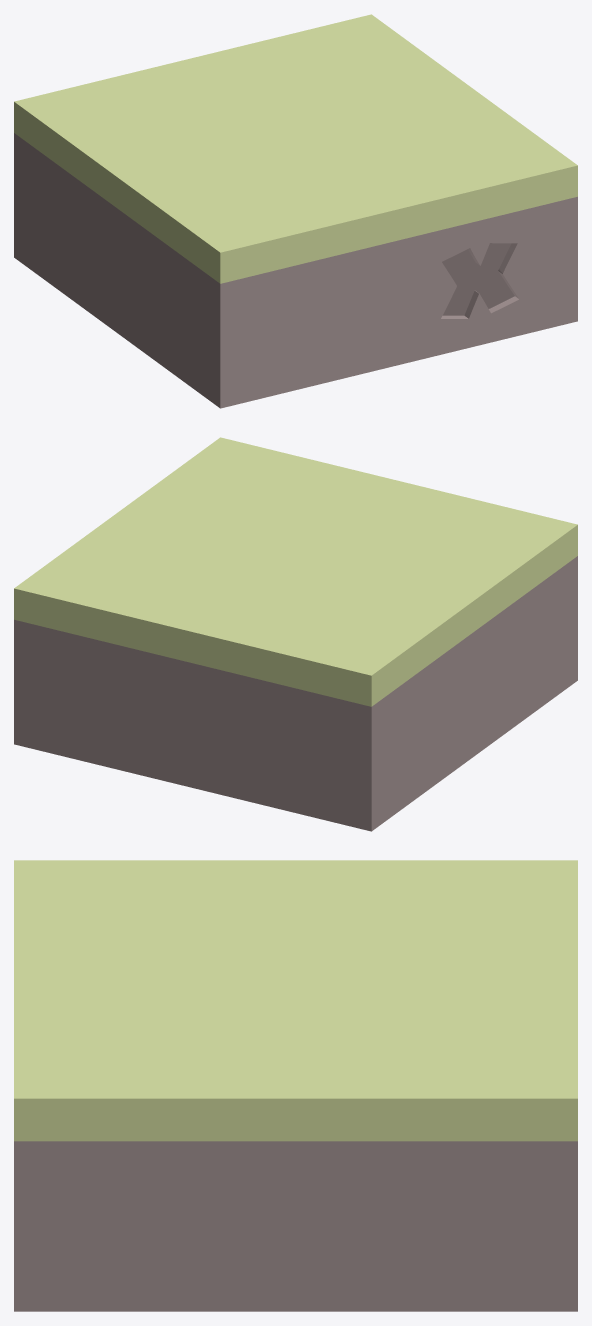
The model's file is nebx-cube.glb.
3 renders of one model, top to bottom at view 1: azimuth 30°, elevation 25°; view 2: azimuth 150°, elevation 25°; view 3: azimuth 270°, elevation 25°, orthographic. The views are drawn at different scales.
Parts seen in each view (by area): view 1: Cube1, Boolean, Shape_1; view 2: Cube1, Boolean; view 3: Cube1, Boolean.
Boxes of the visible parts, x1,y1,x2,y2 form: Cube1: [14, 14, 577, 283]; Boolean: [14, 133, 577, 408]; Shape_1: [442, 243, 514, 315]; Cube1: [14, 437, 577, 706]; Boolean: [14, 556, 577, 831]; Cube1: [14, 860, 577, 1141]; Boolean: [14, 1141, 577, 1311].
Bounding box in the file's own units: 2.4 × 1 × 2.4.
